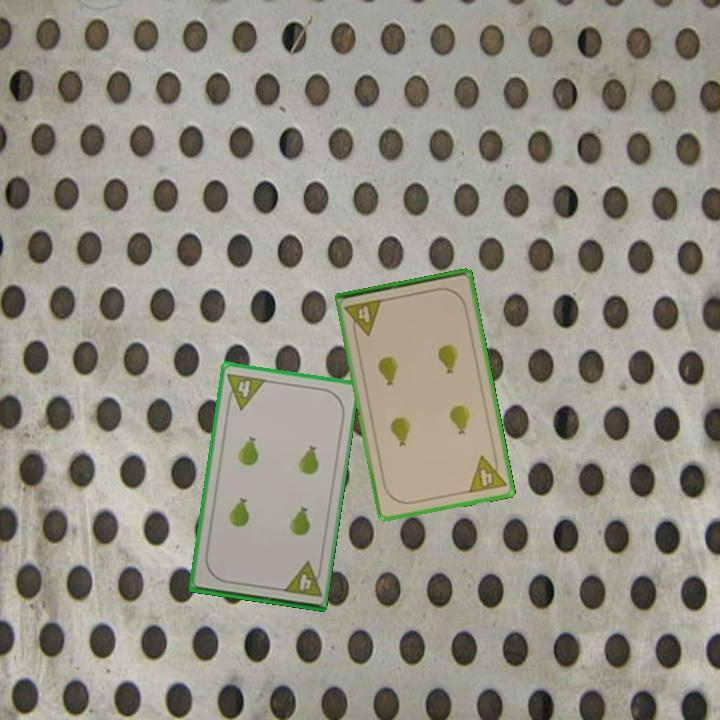4p: (465, 450, 509, 496), (223, 369, 268, 413), (341, 296, 385, 340), (279, 558, 325, 600)
